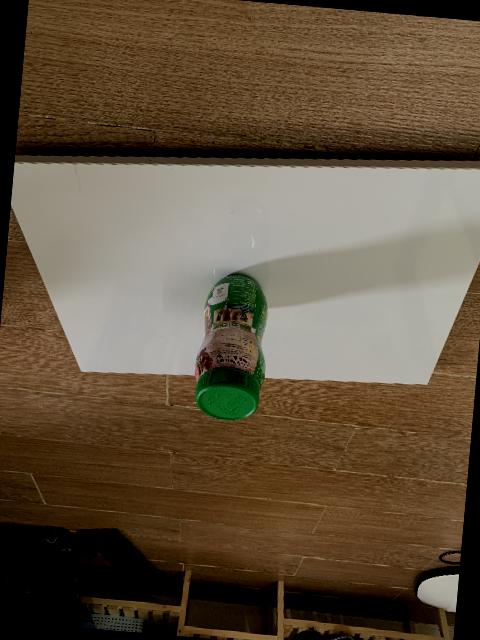milo: (193, 272, 267, 419)
